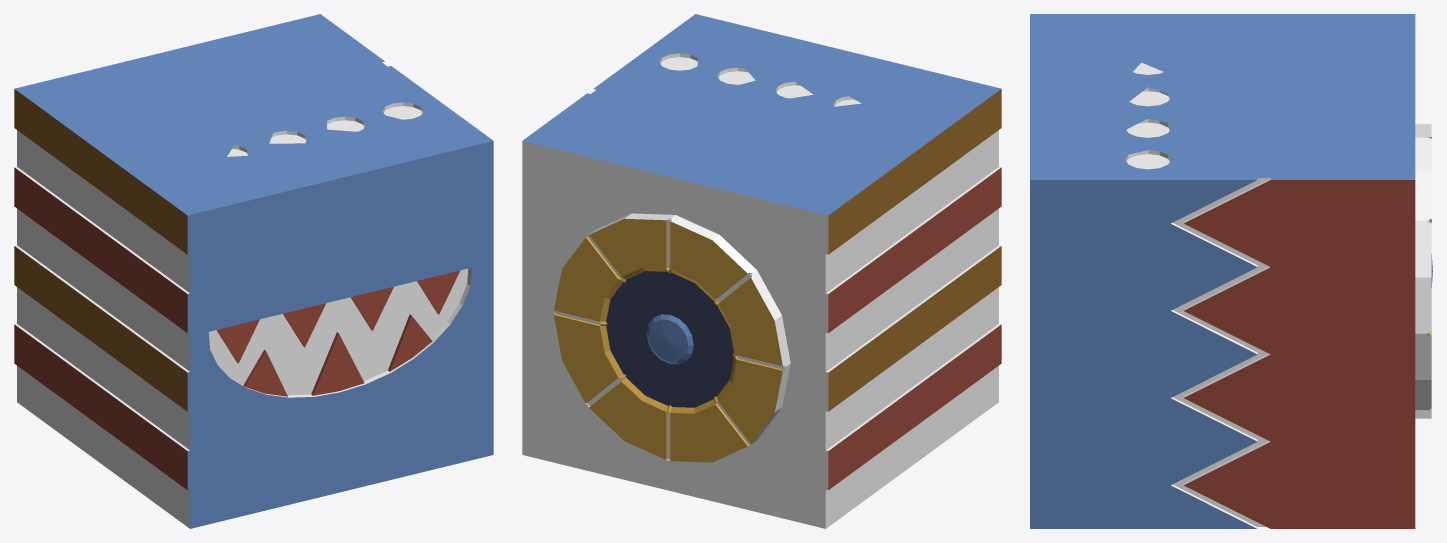
The model's file is Block1x1_1.fbx.
3 renders of one model, left to right at view 1: azimuth 30°, elevation 25°; view 2: azimuth 150°, elevation 25°; view 3: azimuth 270°, elevation 25°, orthographic. The views are drawn at different scales.
Visible parts, largest first — view 1: Block1x1_1; view 2: Block1x1_1, Eye.001; view 3: Block1x1_1.
Boxes of the visible parts, x1,y1,x2,y2 form: Block1x1_1: (14,14,493,528); Block1x1_1: (522,14,1001,528); Eye.001: (646,314,693,364); Block1x1_1: (1030,14,1431,528).
Bounding box in the file's own units: 1.02 × 1.02 × 1.05.
